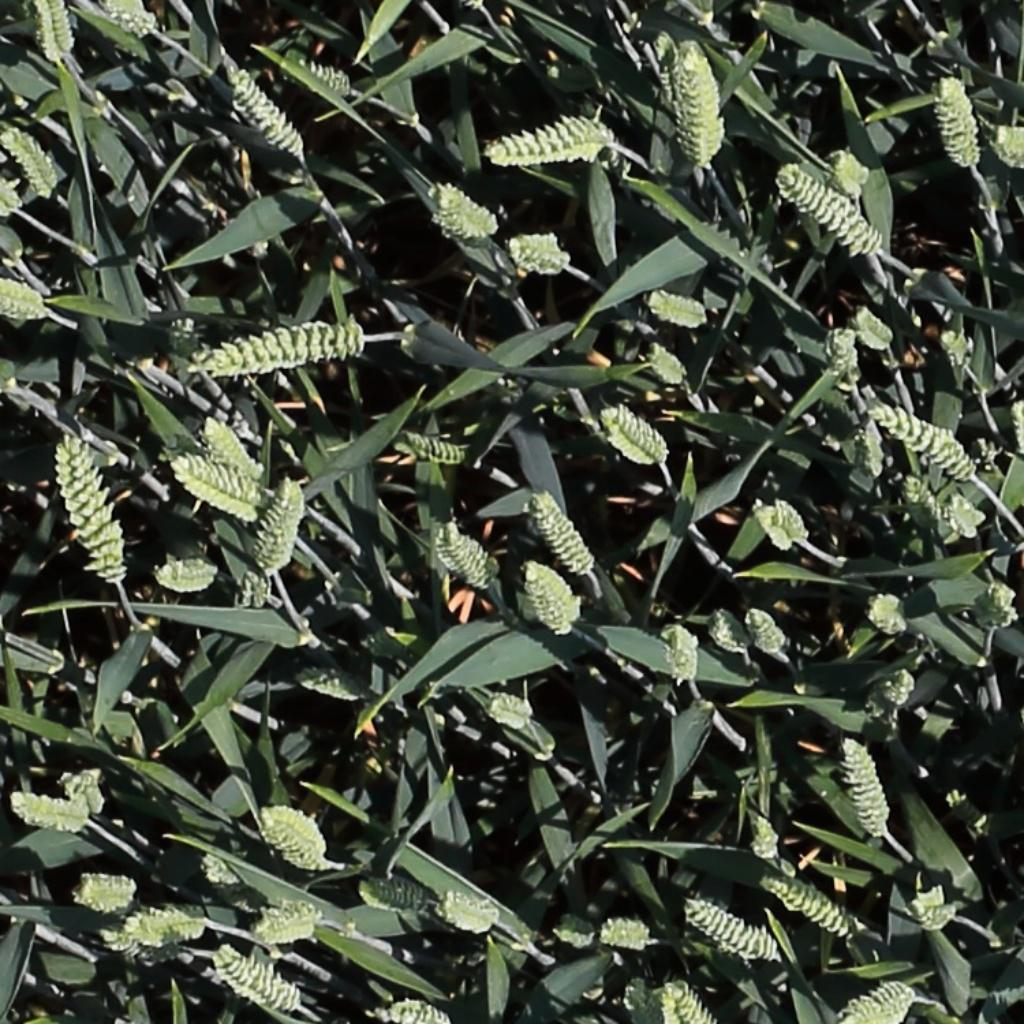0-0: (55, 432, 143, 585), (197, 318, 377, 382), (782, 163, 883, 252), (872, 402, 984, 477), (225, 62, 308, 161), (486, 103, 618, 159), (674, 36, 726, 168), (173, 458, 264, 528), (531, 486, 598, 580), (765, 876, 861, 939), (688, 899, 779, 961), (215, 948, 301, 1011), (843, 735, 891, 843), (199, 412, 264, 486), (521, 559, 580, 638), (255, 475, 301, 576), (0, 120, 58, 199), (936, 73, 980, 169), (436, 521, 496, 591), (603, 405, 671, 465), (502, 226, 578, 278), (906, 475, 958, 544), (435, 181, 499, 236), (138, 898, 217, 940), (0, 277, 59, 333), (260, 812, 324, 861), (79, 878, 145, 924), (752, 499, 800, 555), (744, 603, 791, 660), (156, 552, 216, 595), (6, 797, 90, 826), (708, 604, 752, 659), (948, 491, 994, 543), (936, 323, 983, 372), (34, 2, 68, 68), (851, 988, 917, 1022), (774, 494, 815, 548), (400, 432, 469, 464), (645, 338, 690, 387), (670, 618, 699, 692), (861, 415, 891, 486), (363, 884, 436, 913), (0, 163, 36, 221), (885, 658, 924, 711), (645, 292, 711, 322), (868, 590, 910, 636), (43, 2, 75, 62), (667, 980, 712, 1022), (830, 320, 860, 383), (752, 809, 783, 869), (105, 1, 157, 34), (441, 897, 502, 925), (299, 674, 364, 700), (301, 60, 352, 92), (238, 563, 268, 617), (486, 693, 535, 726), (997, 107, 1024, 166), (599, 917, 657, 944), (549, 912, 590, 950), (198, 859, 247, 890), (253, 921, 320, 943), (979, 576, 1003, 635), (376, 1004, 447, 1022), (660, 976, 686, 1024)
